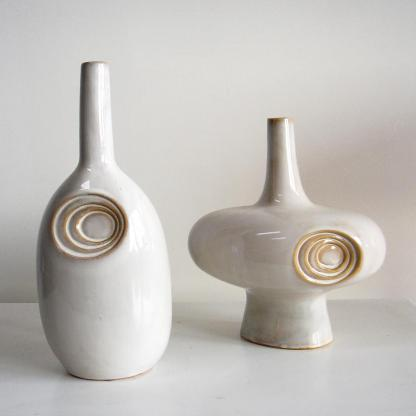vase: (186, 115, 388, 350), (35, 60, 171, 382)
